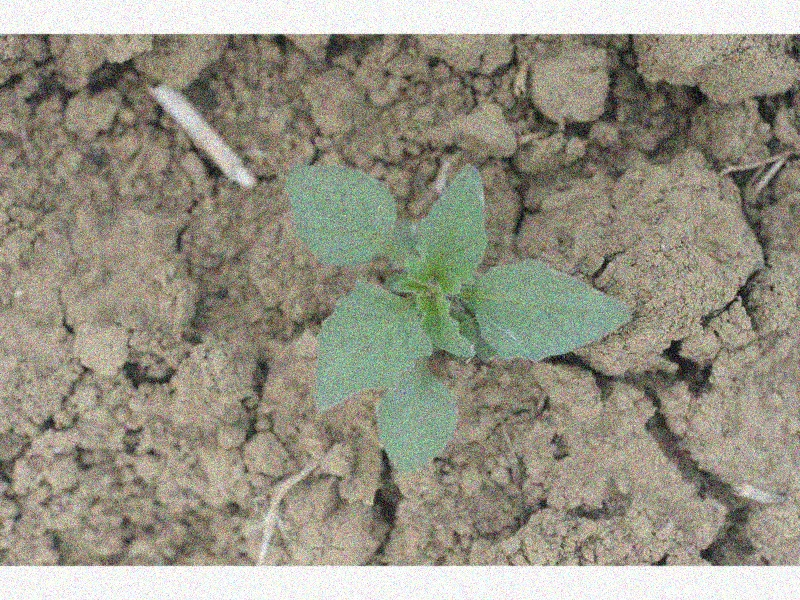nightshade: (284, 162, 633, 473)
